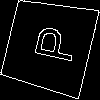P: (24, 21, 79, 65)
